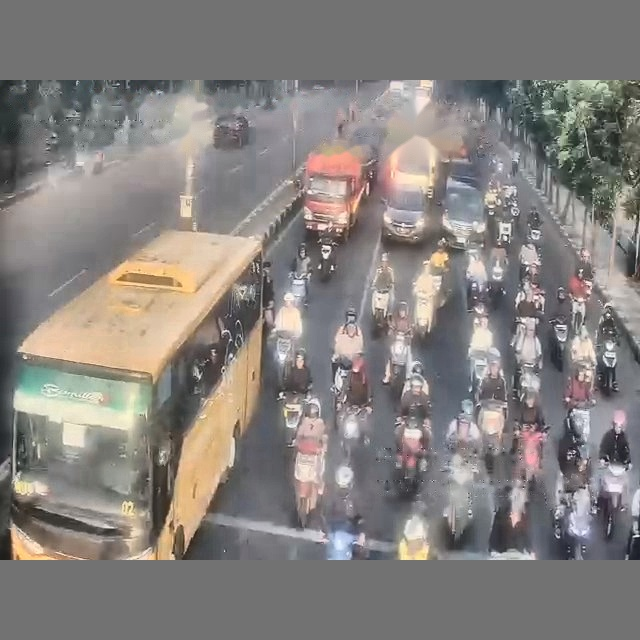Bis: (10, 231, 262, 559)
Mobil: (213, 114, 249, 147)
Motor: (443, 455, 477, 547), (294, 439, 325, 527), (555, 487, 592, 559), (396, 417, 425, 494), (517, 425, 549, 490), (599, 463, 626, 539), (478, 400, 506, 473), (339, 407, 366, 463), (390, 331, 409, 398), (596, 336, 617, 395), (282, 393, 304, 446), (331, 358, 351, 413), (275, 331, 294, 385), (549, 316, 568, 370), (414, 291, 434, 339), (371, 288, 391, 335), (317, 237, 336, 282), (487, 262, 505, 308), (469, 351, 487, 395), (289, 273, 309, 309), (467, 278, 486, 310), (571, 297, 585, 334), (497, 219, 512, 249), (527, 224, 541, 248)
Truk: (303, 141, 377, 240)
